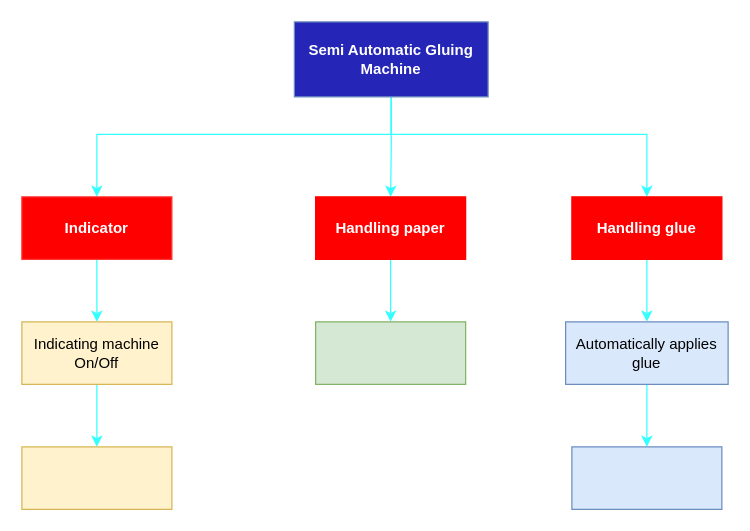
This 750x531 diagram has some shape labels left out. The shapes that lost their labels are listed below. From the top down, each one's box as (x1, y1, x2, y2) in pixels, then its label:
(314, 321, 466, 384): Senses Paper
(21, 446, 172, 509): Indication after gluing
(571, 446, 722, 509): Allows refilling
